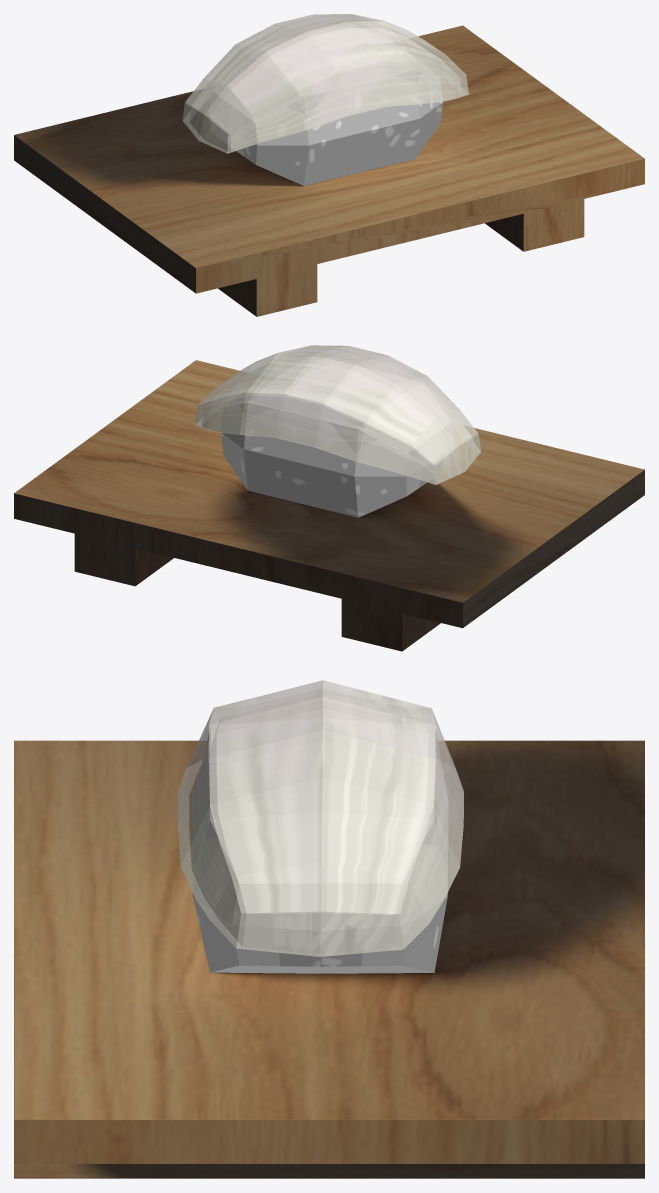
Rendered from sushi_ika.glb.
3 renders of one model, top to bottom at view 1: azimuth 30°, elevation 25°; view 2: azimuth 150°, elevation 25°; view 3: azimuth 270°, elevation 25°, orthographic. The views are drawn at different scales.
Visible parts, largest first — view 1: geta.vox, shari, ika; view 2: geta.vox, shari, ika; view 3: geta.vox, ika, shari.
Boxes of the visible parts, box(x1,y1,x2,y2) form: geta.vox: box(14, 25, 644, 316); shari: box(210, 24, 442, 185); ika: box(182, 14, 468, 153); geta.vox: box(14, 360, 644, 651); shari: box(221, 356, 453, 517); ika: box(195, 345, 481, 484); geta.vox: box(14, 740, 644, 1178); ika: box(178, 680, 463, 956); shari: box(192, 718, 447, 973).
Bounding box in the file's own units: 3.7 × 1.47 × 2.6.
3 materials, 3 textured.
